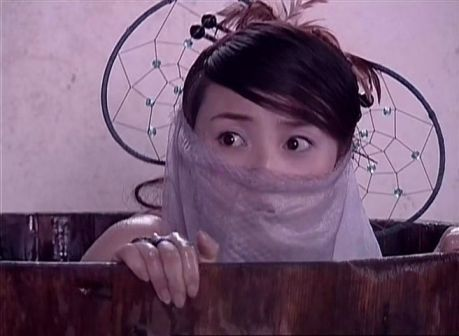face_mask: (200, 79, 337, 245)
